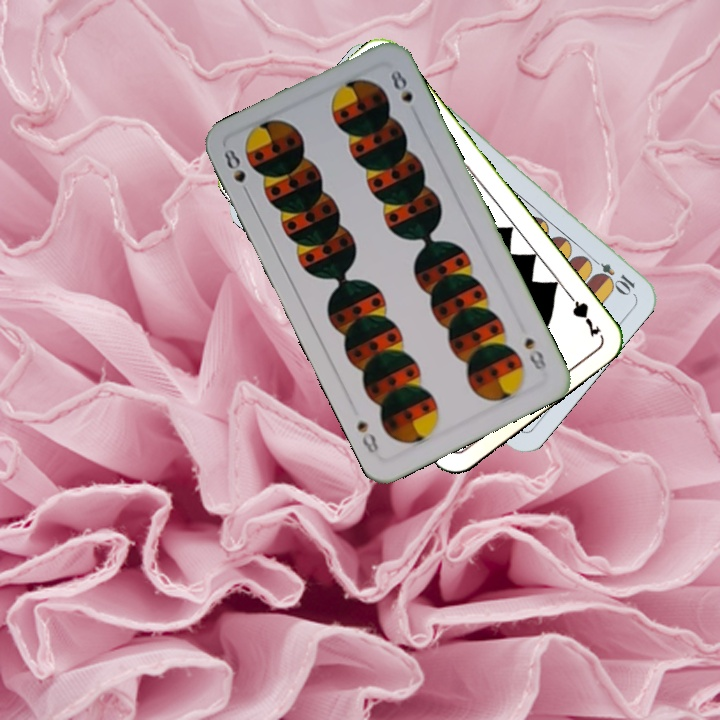E10: (585, 252, 638, 297)
G7: (561, 286, 604, 340)
S8: (219, 144, 254, 201), (520, 333, 549, 373)
